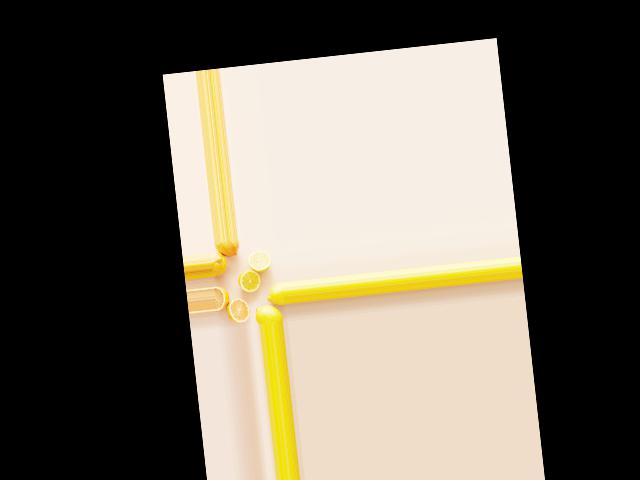lemon: (212, 239, 242, 261)
